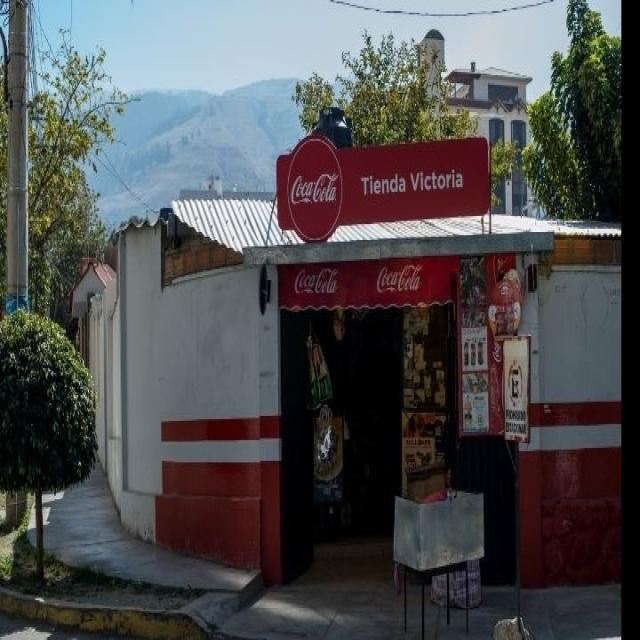coca cola: (284, 160, 341, 220), (374, 263, 434, 298)
